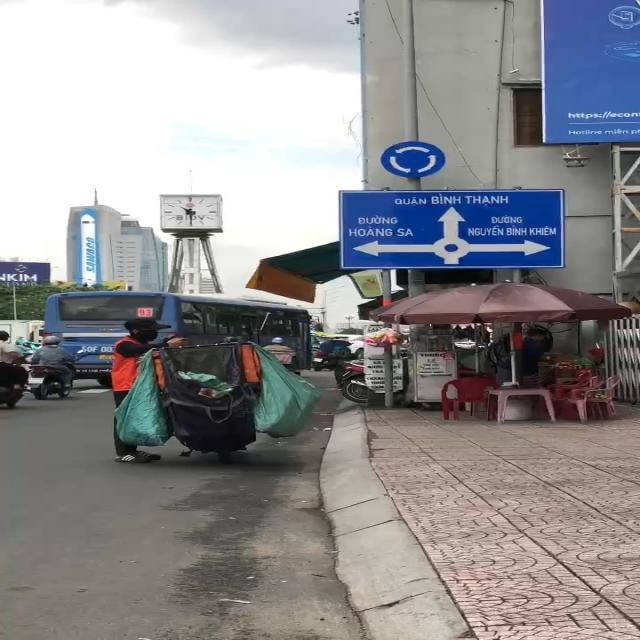Bien bao noi giao nhau chay theo vong xuyen: (376, 136, 449, 180)
